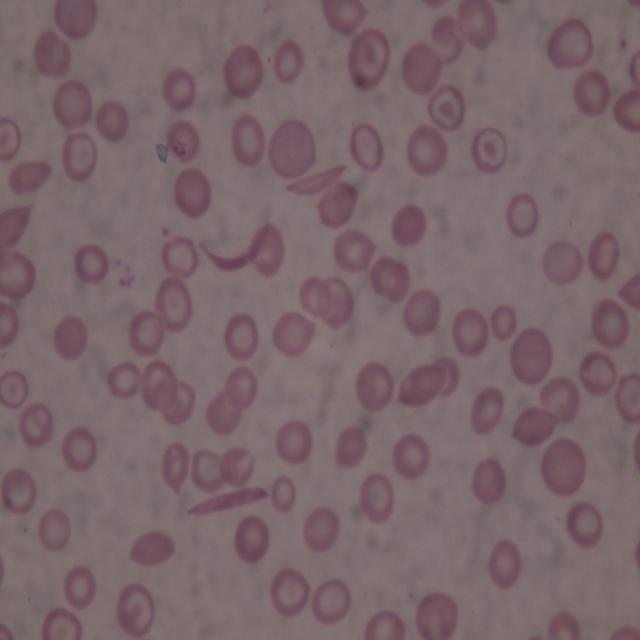Crystal: (10, 159, 58, 195)
Normal: (404, 126, 446, 176), (456, 3, 498, 50), (392, 433, 434, 479), (449, 307, 491, 353), (312, 579, 353, 626), (565, 501, 604, 547), (62, 426, 99, 474), (230, 115, 264, 167), (126, 310, 166, 354), (226, 312, 259, 362), (506, 191, 539, 241), (572, 71, 610, 113), (275, 421, 312, 464), (488, 540, 520, 588), (96, 99, 128, 145), (38, 507, 72, 549), (227, 365, 260, 408), (236, 516, 268, 560), (162, 70, 198, 109), (274, 40, 302, 86), (75, 244, 108, 282), (64, 564, 93, 606), (108, 361, 140, 398), (547, 611, 583, 638), (271, 475, 297, 509), (0, 304, 19, 346)
Others: (266, 117, 318, 179), (545, 17, 595, 70), (396, 364, 450, 413), (542, 436, 586, 494), (509, 326, 552, 383), (114, 585, 158, 638), (53, 78, 95, 131), (222, 43, 262, 98), (414, 590, 457, 640), (173, 168, 213, 218), (317, 180, 359, 227), (274, 308, 315, 356), (544, 237, 585, 285), (61, 128, 98, 181), (402, 40, 437, 96), (139, 358, 175, 412), (400, 287, 440, 335), (590, 301, 630, 349), (270, 568, 309, 616), (360, 471, 395, 524), (350, 123, 387, 173), (334, 229, 379, 270), (538, 374, 579, 419), (514, 406, 559, 447), (160, 233, 200, 279), (470, 458, 510, 504), (250, 222, 284, 276), (355, 363, 393, 411), (320, 2, 374, 35), (53, 0, 98, 39), (0, 205, 35, 255), (33, 30, 71, 76), (52, 314, 88, 360), (155, 382, 192, 426), (432, 16, 463, 68), (306, 506, 341, 552), (0, 252, 35, 297), (588, 230, 620, 279), (220, 444, 256, 487), (390, 203, 425, 247), (163, 119, 200, 160), (334, 422, 366, 469), (319, 278, 353, 322), (3, 467, 36, 512), (579, 351, 614, 393), (470, 387, 504, 430), (20, 403, 52, 448), (206, 395, 242, 435), (610, 87, 639, 134), (162, 441, 188, 492), (613, 370, 639, 420), (360, 611, 404, 640), (429, 355, 460, 396), (370, 252, 399, 294), (299, 274, 330, 313), (192, 452, 222, 488), (491, 301, 516, 341), (385, 264, 409, 302), (608, 624, 637, 640), (628, 48, 638, 90), (0, 620, 19, 640)
Sickle: (199, 218, 271, 273), (185, 486, 270, 518), (282, 162, 350, 199), (129, 527, 177, 569), (615, 269, 639, 314)
Target: (347, 28, 389, 91), (156, 277, 192, 333), (427, 84, 467, 130), (471, 125, 508, 173), (41, 606, 82, 640), (0, 369, 29, 407), (1, 116, 20, 162)
